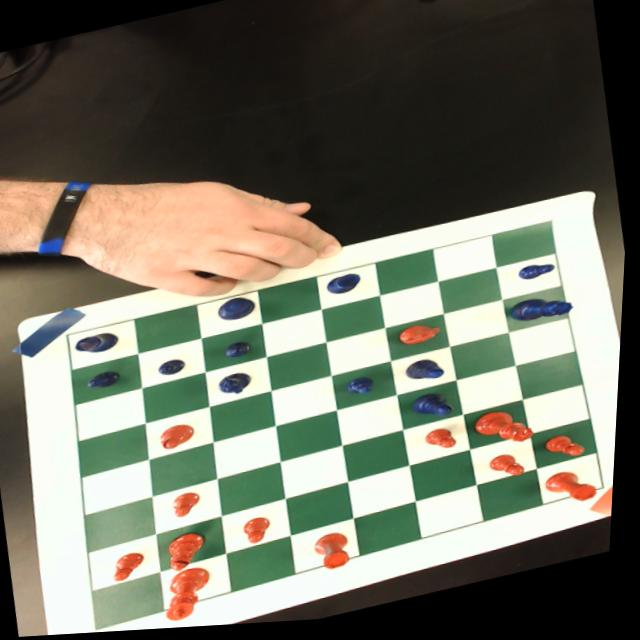B: (413, 393, 460, 426), (407, 359, 451, 389)
K: (218, 296, 261, 326)
N: (219, 371, 257, 400)
P: (519, 265, 561, 288), (89, 368, 126, 392), (348, 377, 380, 401), (225, 340, 257, 363), (160, 358, 191, 379)
Q: (511, 296, 578, 332)
R: (78, 330, 124, 357), (327, 274, 367, 300)
b: (164, 530, 215, 576), (162, 423, 202, 453)
k: (164, 566, 224, 625)
n: (400, 324, 446, 352)
p: (547, 435, 592, 469), (492, 455, 533, 487), (115, 551, 154, 584), (175, 490, 210, 521), (428, 429, 464, 458), (246, 517, 279, 547)
q: (476, 407, 542, 457)
r: (546, 470, 606, 516), (315, 532, 363, 577)
